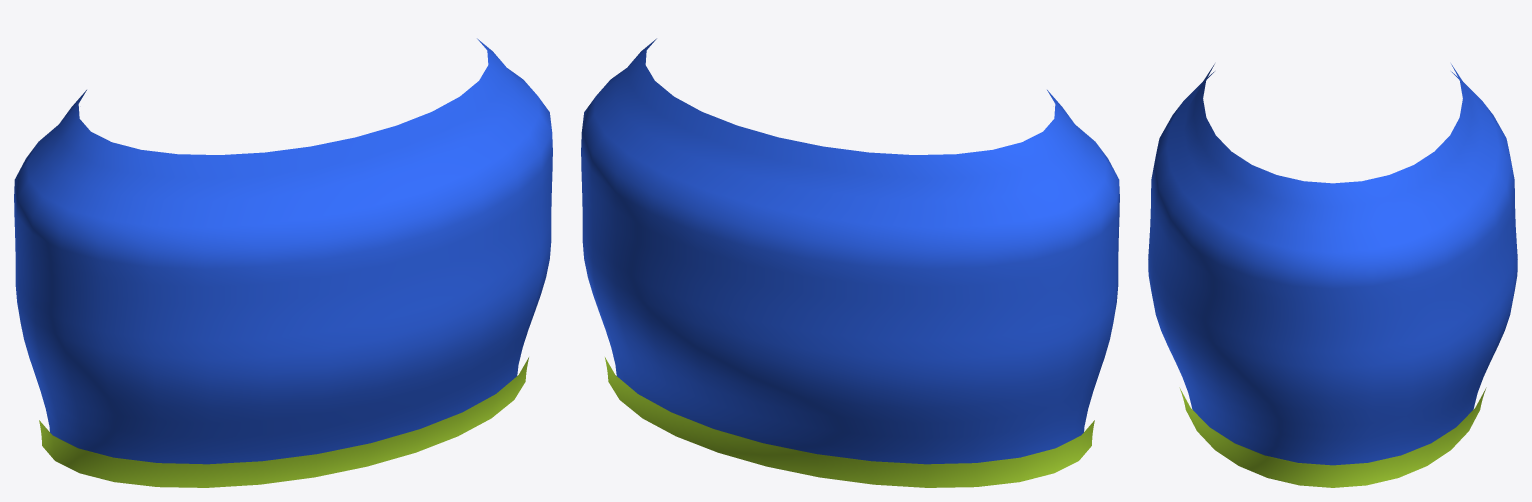
The model's file is top_crop_male.glb.
3 views of the same model, side by side, from view 1: azimuth 30°, elevation 25°; view 2: azimuth 150°, elevation 25°; view 3: azimuth 270°, elevation 25° (orthographic). The views are drawn at different scales.
Visible parts, largest first — view 1: shirt, stripe; view 2: shirt, stripe; view 3: shirt, stripe.
Boxes of the visible parts, box(x1,y1,x2,y2) form: shirt: box(14, 38, 552, 464); stripe: box(39, 357, 528, 487); shirt: box(581, 38, 1119, 464); stripe: box(605, 357, 1094, 487); shirt: box(1148, 64, 1517, 465); stripe: box(1179, 387, 1486, 487).
Bounding box in the file's own units: 0.3599 × 0.22 × 0.2551.
